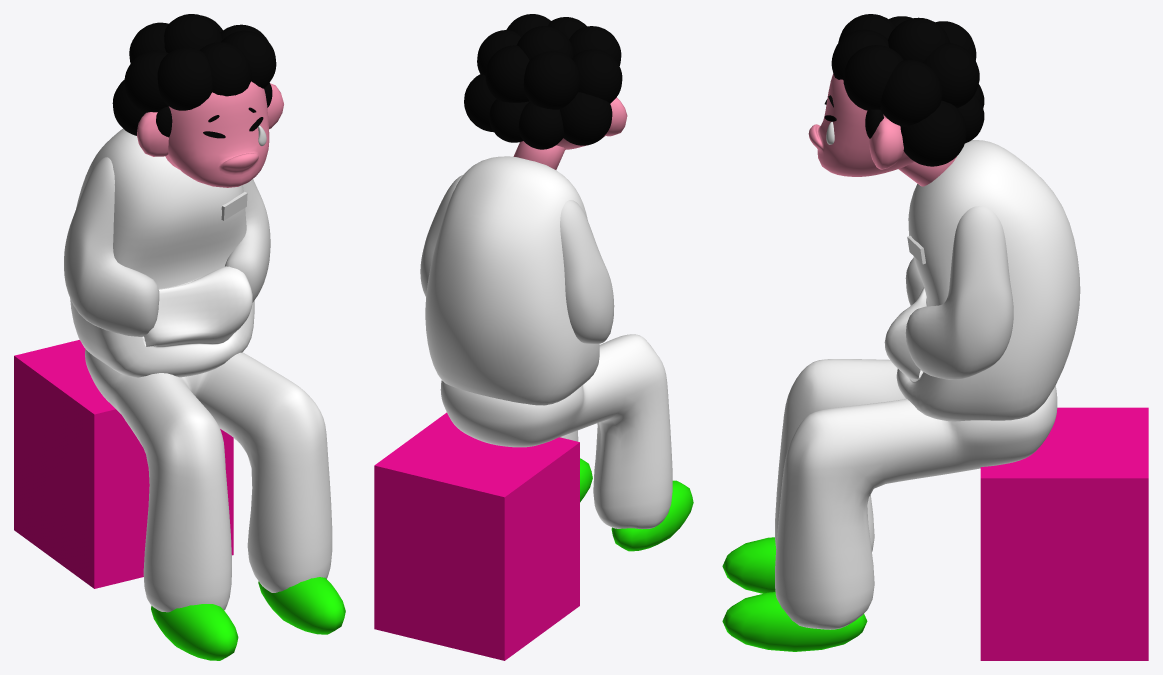
File: friend_sad.glb
The picture shows the model from 3 angles, left to right: view 1: azimuth 30°, elevation 25°; view 2: azimuth 150°, elevation 25°; view 3: azimuth 270°, elevation 25°; orthographic projection. The views are drawn at different scales.
Visible parts, largest first — view 1: pCube10, pCube9, 1body1, hair, 3-2body, pCube1, pCube13, pCube12; view 2: pCube9, 1body1, pCube10, hair, 3-2body, pCube13, pCube1, 구체.016; view 3: pCube9, pCube10, 1body1, hair, 3-2body, pCube1, pCube12, 구체.016, pCube13.
Boxes of the visible parts, x1,y1,x2,y2 form: pCube10: (85,336,332,612); pCube9: (14,340,233,588); 1body1: (70,128,254,377); hair: (112,14,276,137); 3-2body: (64,157,270,336); pCube1: (137,81,283,187); pCube13: (151,604,238,660); pCube12: (258,577,345,634); pCube9: (374,412,579,660); 1body1: (425,156,599,405); pCube10: (440,334,672,529); hair: (477,14,622,149); 3-2body: (420,174,614,343); pCube13: (611,480,693,551); pCube1: (513,97,627,169); 구체.016: (464,74,496,132); pCube9: (980,407,1148,660); pCube10: (775,359,1057,629); 1body1: (884,140,1080,421); hair: (831,14,984,143); 3-2body: (905,206,1013,379); pCube1: (808,73,956,186); pCube12: (722,592,867,651); 구체.016: (900,100,966,166); pCube13: (722,537,776,593).
Bounding box in the file's own units: 0.4183 × 1.19 × 0.7618.
